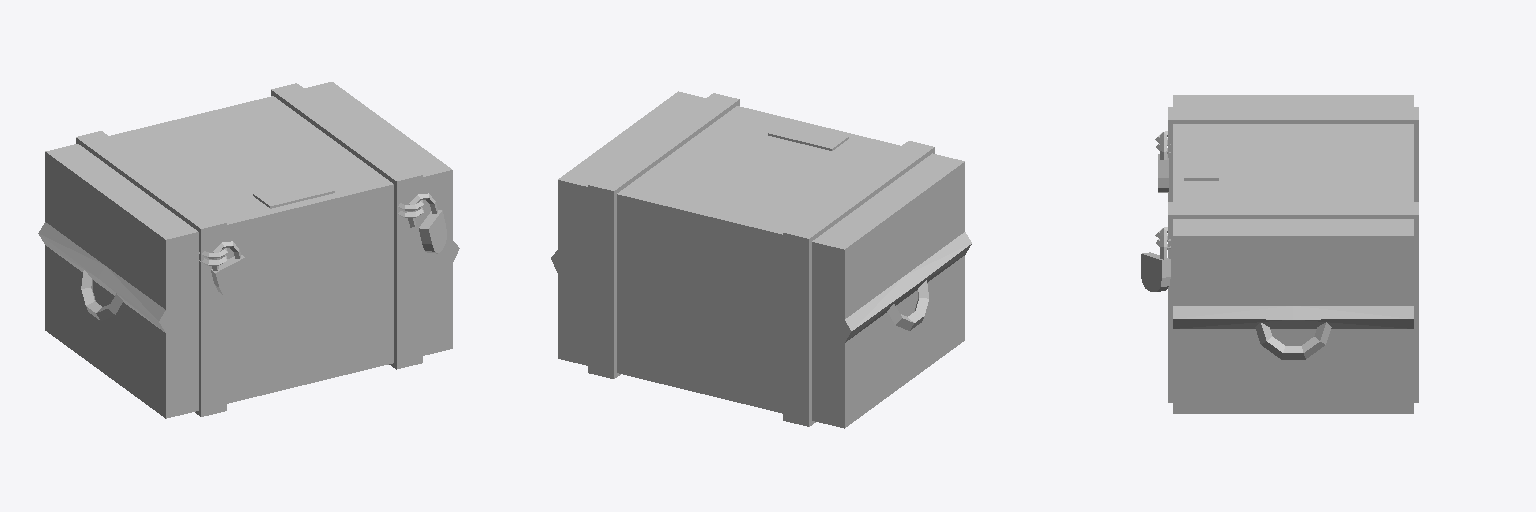
The model's file is crate_gold_mesh.obj.
The picture shows the model from 3 angles: view 1: azimuth 30°, elevation 25°; view 2: azimuth 150°, elevation 25°; view 3: azimuth 270°, elevation 25°; orthographic projection.
Visible parts, largest first — view 1: crate_gold_mesh Mesh Mesh Mesh; view 2: crate_gold_mesh Mesh Mesh Mesh; view 3: crate_gold_mesh Mesh Mesh Mesh.
Boxes of the visible parts, box(x1,y1,x2,y2) form: crate_gold_mesh Mesh Mesh Mesh: box(38, 82, 459, 418); crate_gold_mesh Mesh Mesh Mesh: box(551, 91, 971, 428); crate_gold_mesh Mesh Mesh Mesh: box(1141, 95, 1418, 413).
Size of the model in its own units: 44.32 by 25.42 by 33.74.